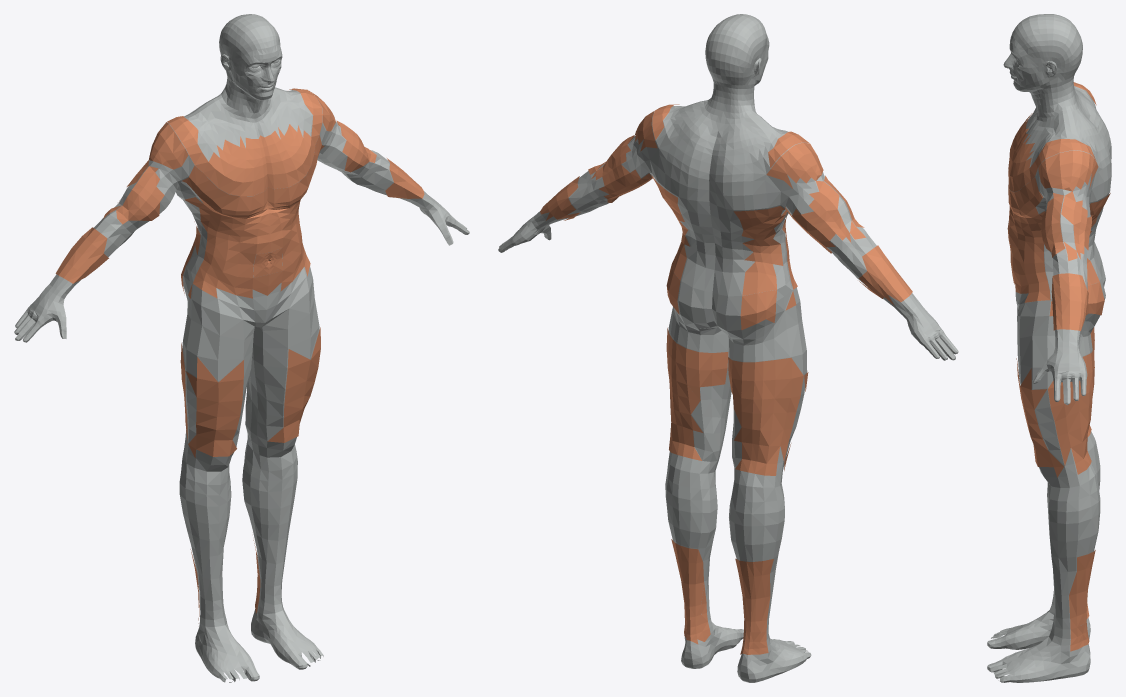
File: male-segmented.glb
The picture shows the model from 3 angles, left to right: view 1: azimuth 30°, elevation 25°; view 2: azimuth 150°, elevation 25°; view 3: azimuth 270°, elevation 25°; orthographic projection.
Parts seen in each view (by area): view 1: body_surface, muscle__chest, muscle__quads, muscle__abs, muscle__shoulders, muscle__biceps, muscle__forearms; view 2: body_surface, muscle__lats, muscle__hamstrings, muscle__calves, muscle__glutes, muscle__shoulders, muscle__forearms, muscle__triceps; view 3: body_surface, muscle__chest, muscle__shoulders, muscle__hamstrings, muscle__abs, muscle__forearms, muscle__calves, muscle__quads, muscle__lats, muscle__triceps, muscle__biceps, muscle__glutes.
Boxes of the visible parts, bbox=[...] form: body_surface: bbox=[14, 14, 469, 682]; muscle__chest: bbox=[182, 124, 324, 257]; muscle__quads: bbox=[185, 327, 320, 457]; muscle__abs: bbox=[193, 207, 310, 298]; muscle__shoulders: bbox=[149, 88, 335, 169]; muscle__biceps: bbox=[116, 120, 376, 224]; muscle__forearms: bbox=[55, 158, 424, 283]; body_surface: bbox=[498, 14, 958, 682]; muscle__lats: bbox=[599, 155, 837, 329]; muscle__hamstrings: bbox=[666, 349, 803, 475]; muscle__calves: bbox=[671, 539, 773, 654]; muscle__glutes: bbox=[666, 328, 803, 413]; muscle__shoulders: bbox=[634, 104, 823, 188]; muscle__forearms: bbox=[540, 176, 912, 305]; muscle__triceps: bbox=[588, 135, 865, 242]; body_surface: bbox=[987, 14, 1111, 682]; muscle__chest: bbox=[1007, 113, 1044, 251]; muscle__shoulders: bbox=[1029, 82, 1098, 191]; muscle__hamstrings: bbox=[1048, 341, 1094, 474]; muscle__abs: bbox=[1009, 219, 1050, 302]; muscle__forearms: bbox=[1051, 273, 1088, 331]; muscle__calves: bbox=[1069, 550, 1095, 651]; muscle__quads: bbox=[1016, 358, 1063, 477]; muscle__lats: bbox=[1049, 193, 1110, 316]; muscle__triceps: bbox=[1061, 191, 1091, 261]; muscle__biceps: bbox=[1041, 193, 1065, 257]; muscle__glutes: bbox=[1048, 327, 1094, 416].
Bounding box in the file's own units: 1.49 × 2 × 0.3517.
